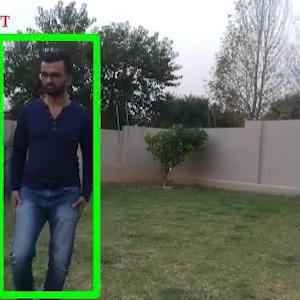follow: (0, 9, 98, 299)
